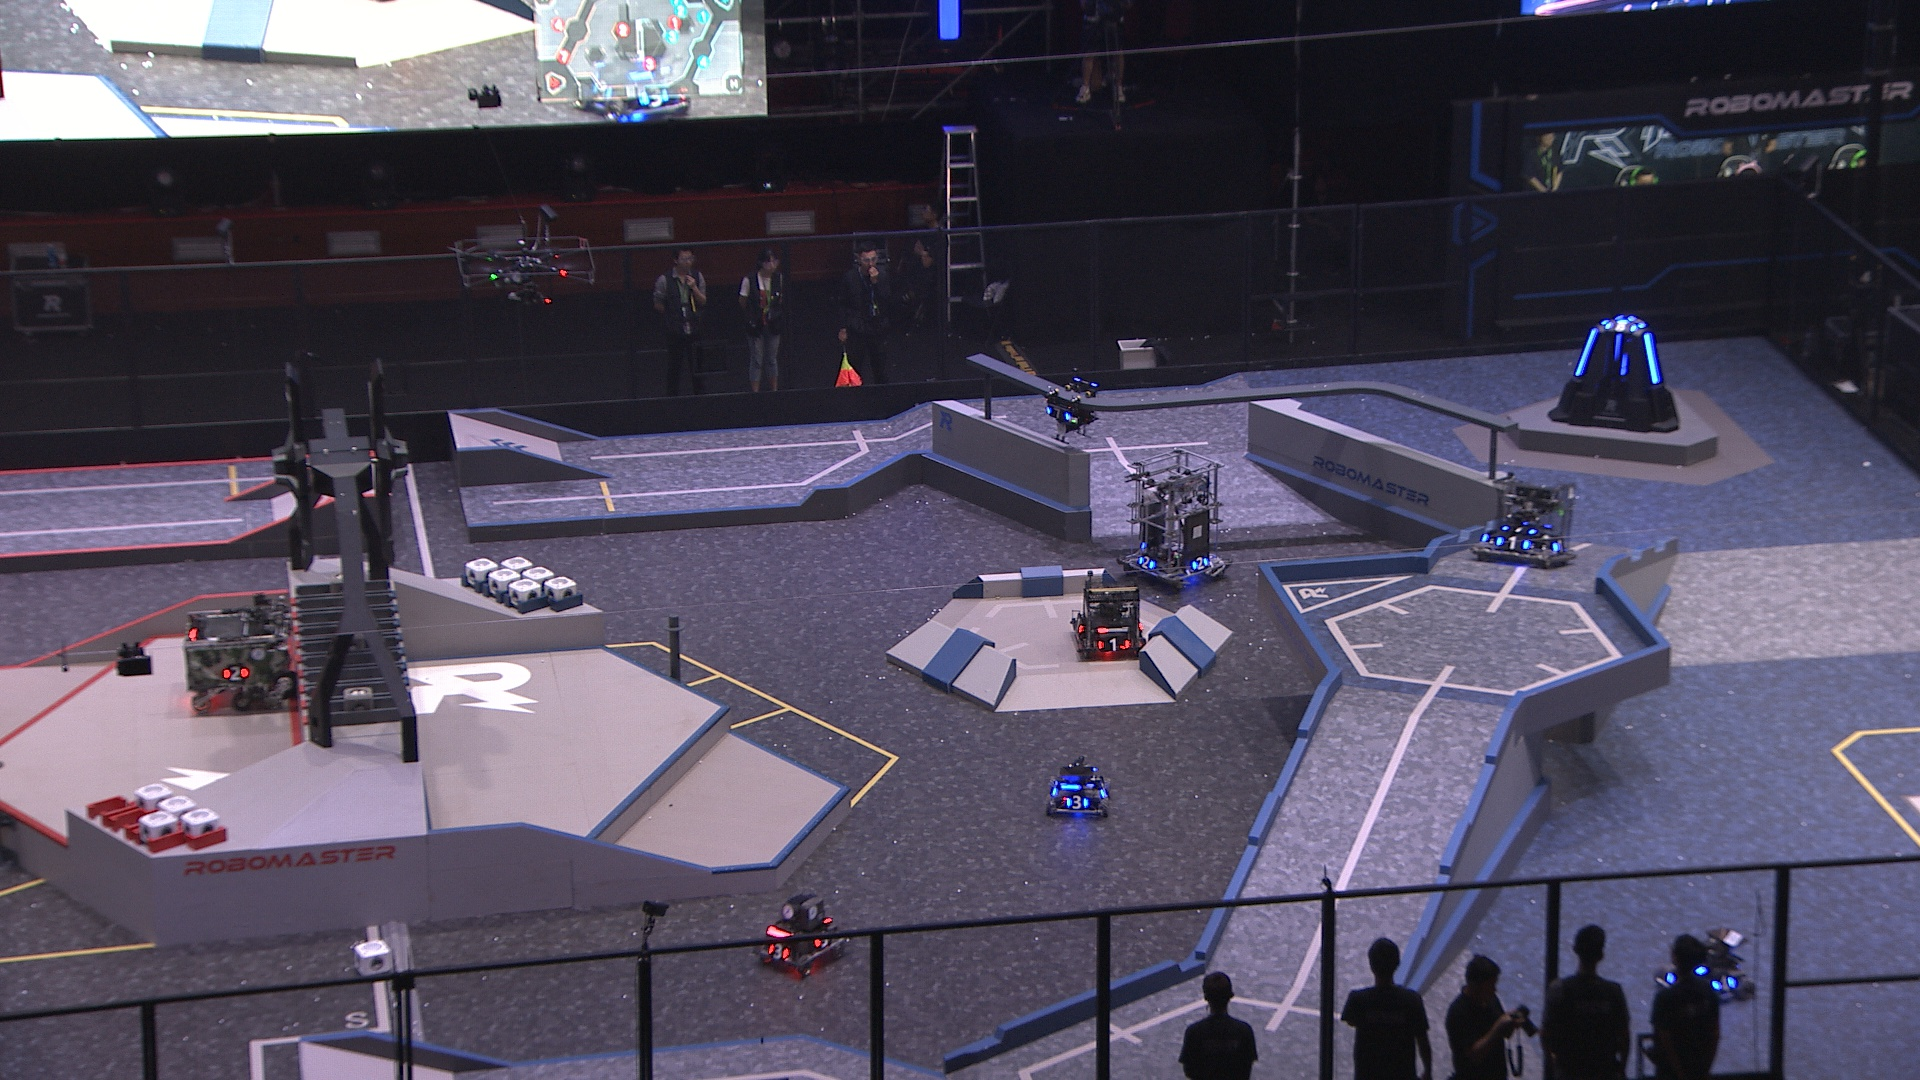armor: (1571, 324, 1600, 377), (1640, 332, 1664, 386), (1495, 531, 1536, 553), (1043, 401, 1073, 425), (1604, 319, 1642, 338), (1095, 636, 1133, 651), (1503, 522, 1542, 537), (222, 665, 249, 684), (1607, 334, 1626, 361), (767, 940, 793, 960), (1712, 975, 1738, 993), (811, 926, 831, 949), (1064, 794, 1091, 811), (1549, 537, 1571, 556), (1617, 351, 1633, 377), (1191, 555, 1211, 575), (1069, 613, 1087, 636), (1629, 313, 1650, 330), (1139, 553, 1156, 572)
base: (1544, 309, 1683, 434)
car: (1116, 442, 1233, 591), (183, 593, 301, 717), (1470, 472, 1578, 566), (752, 889, 851, 984), (1651, 922, 1756, 1007), (1067, 567, 1147, 659), (1044, 756, 1112, 818)
ignore: (572, 55, 694, 120)
watcher: (1039, 363, 1101, 443)
